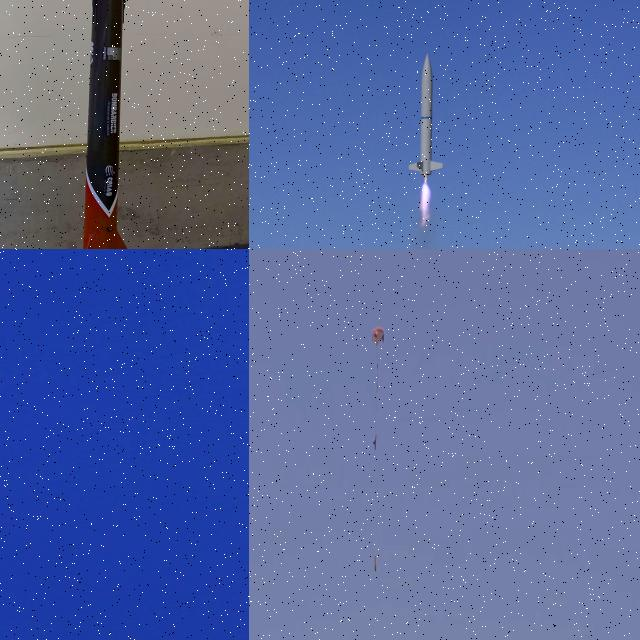Rocket: (82, 0, 128, 249), (408, 53, 443, 176), (373, 555, 377, 572)
